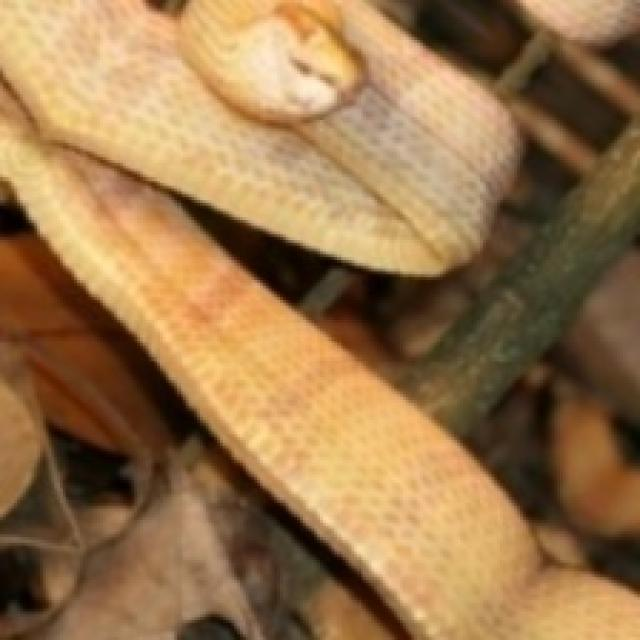dog-toothed cat snake: (0, 86, 637, 637), (0, 0, 517, 274), (0, 0, 474, 271), (343, 3, 511, 183)
